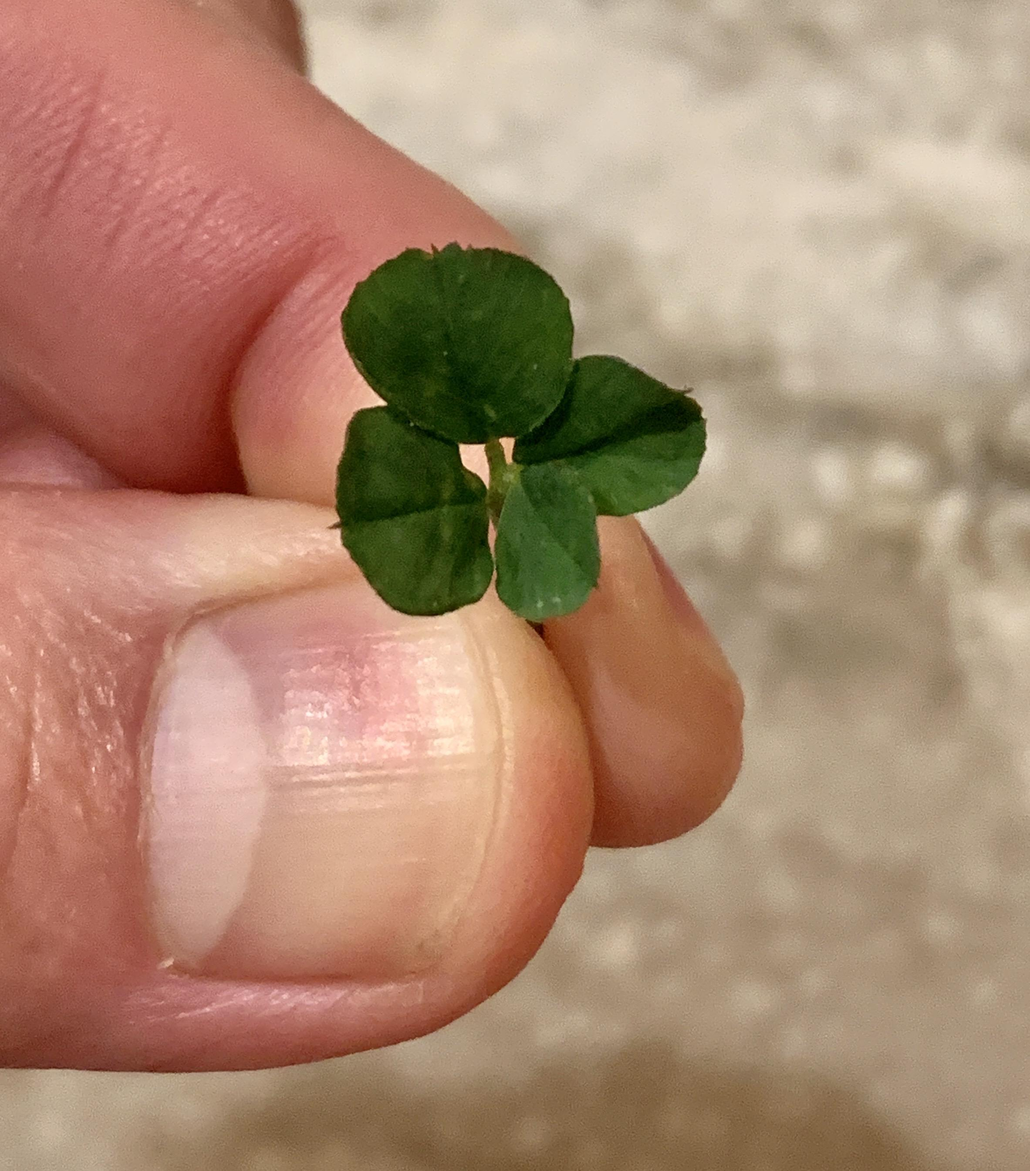4-Leaf-Clovers: (207, 361, 548, 792)
